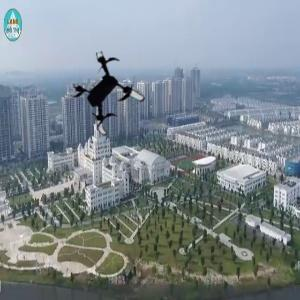drone: (68, 53, 153, 138)
